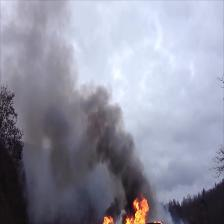fire: (100, 200, 152, 224)
smoke: (78, 86, 149, 197), (19, 2, 76, 133)
